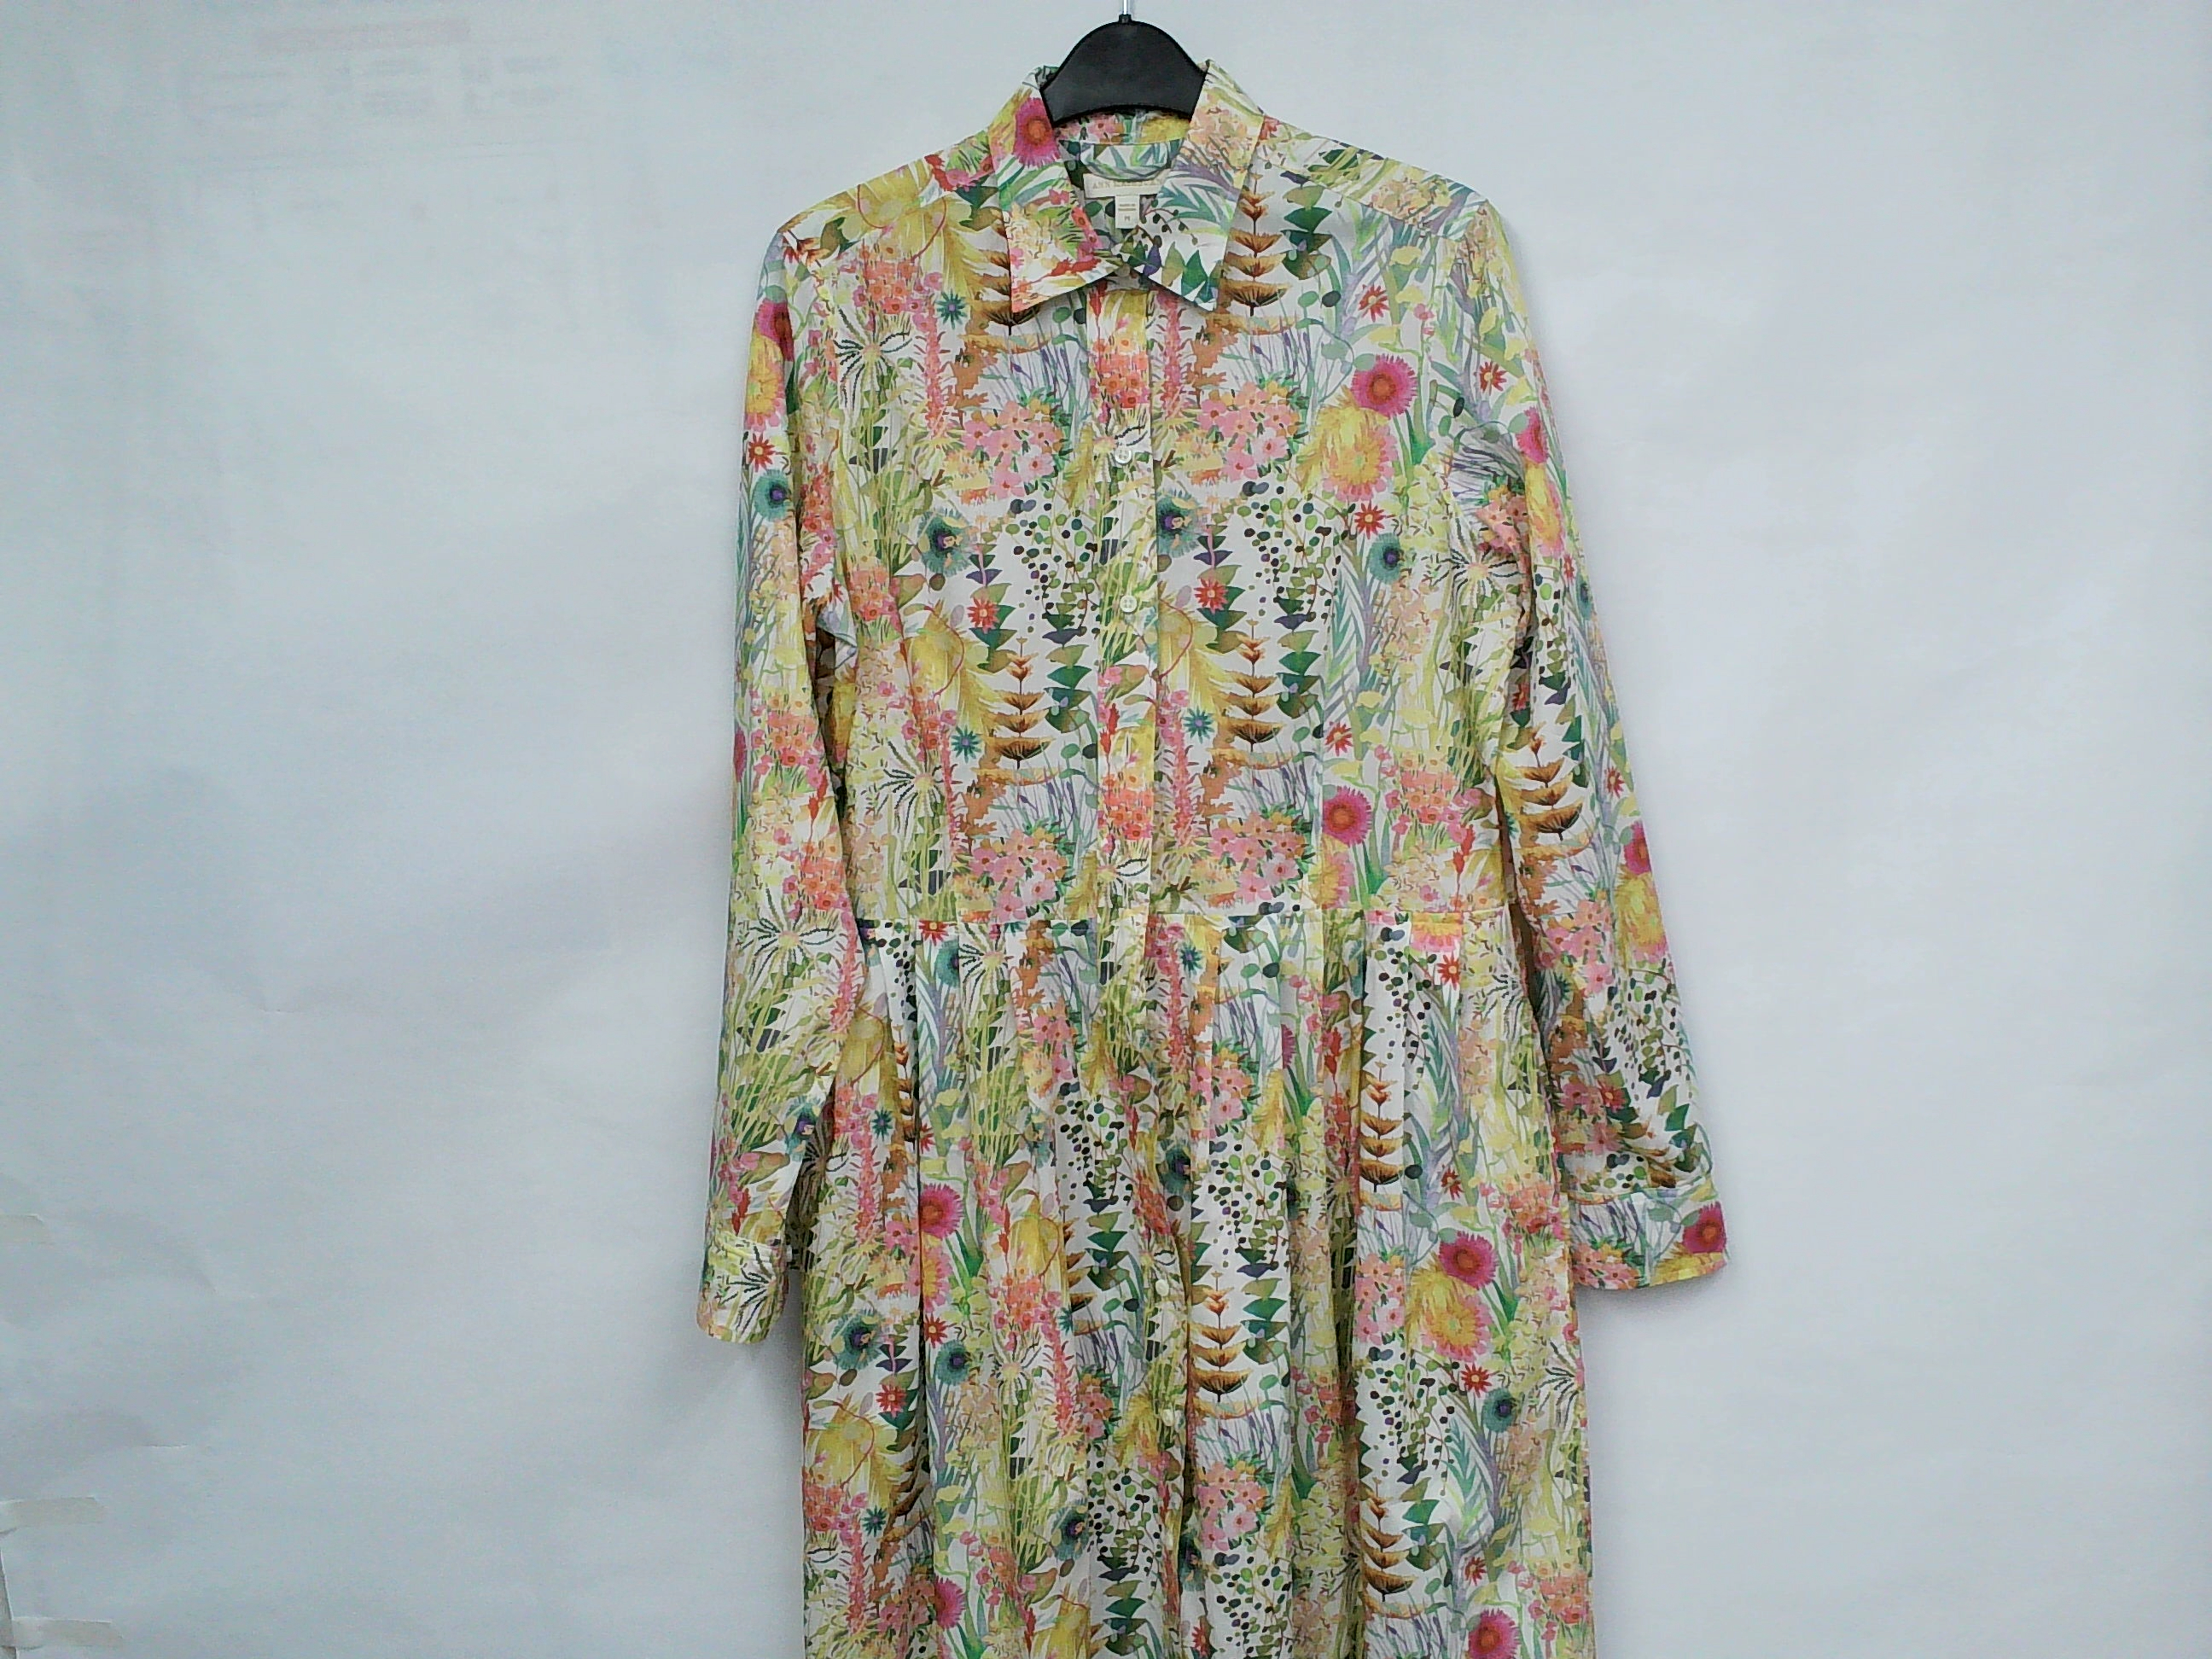structural: (1486, 917, 1611, 1297)
